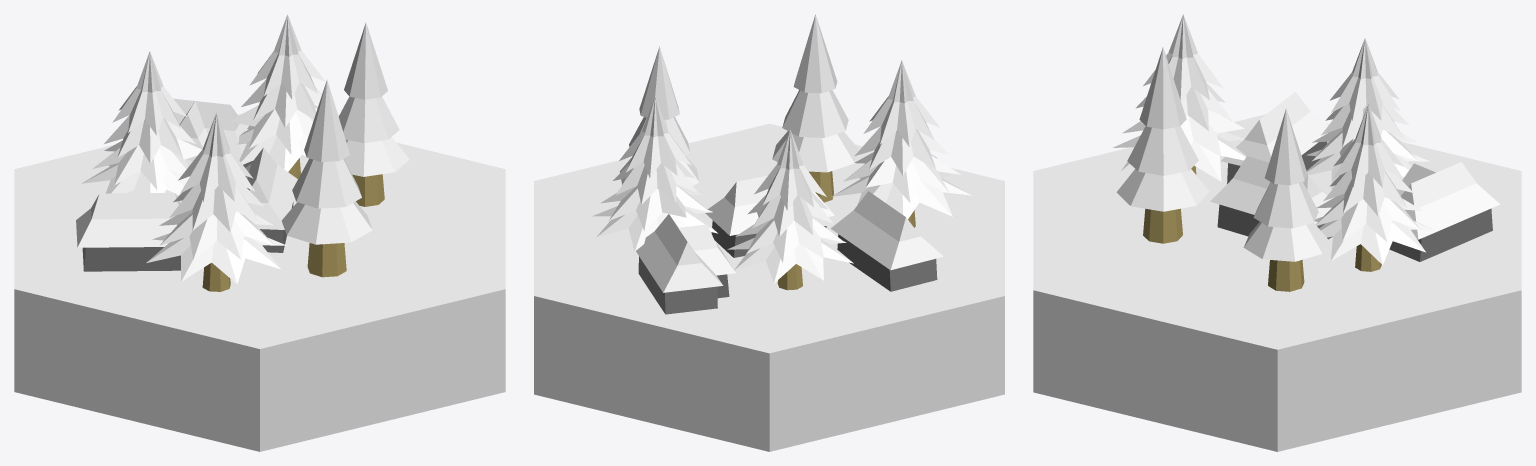
The model's file is Casas_Bosque_Pinos_Nieve_3.fbx.
3 renders of one model, left to right at view 1: azimuth 30°, elevation 25°; view 2: azimuth 150°, elevation 25°; view 3: azimuth 270°, elevation 25°, orthographic. The views are drawn at different scales.
Parts seen in each view (by area): view 1: Casas_Bosque_Pinos_Nieve_3; view 2: Casas_Bosque_Pinos_Nieve_3; view 3: Casas_Bosque_Pinos_Nieve_3.
Boxes of the visible parts, x1,y1,x2,y2 form: Casas_Bosque_Pinos_Nieve_3: [14, 14, 505, 451]; Casas_Bosque_Pinos_Nieve_3: [534, 14, 1004, 451]; Casas_Bosque_Pinos_Nieve_3: [1033, 14, 1521, 451].
Bounding box in the file's own units: 200 × 114 × 173.
